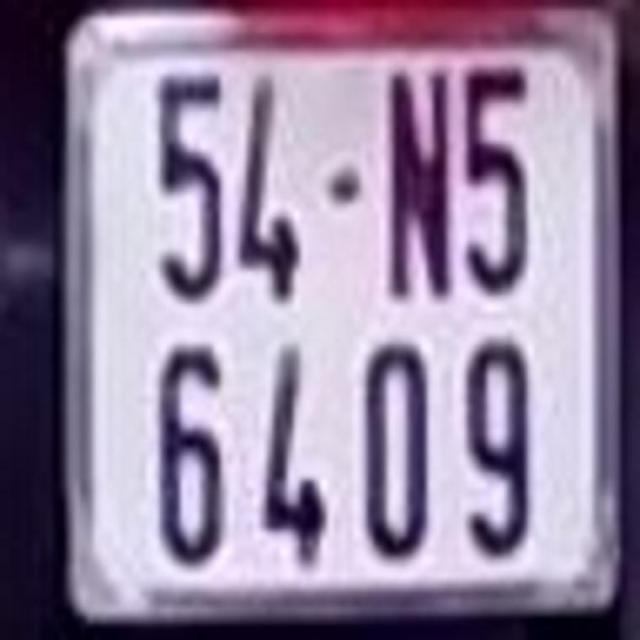0: (360, 338, 430, 552)
4: (255, 348, 325, 564), (240, 79, 304, 304)
5: (465, 68, 530, 298), (157, 77, 224, 296)
6: (161, 342, 226, 566)
9: (461, 340, 528, 554)
N: (382, 72, 454, 298)
